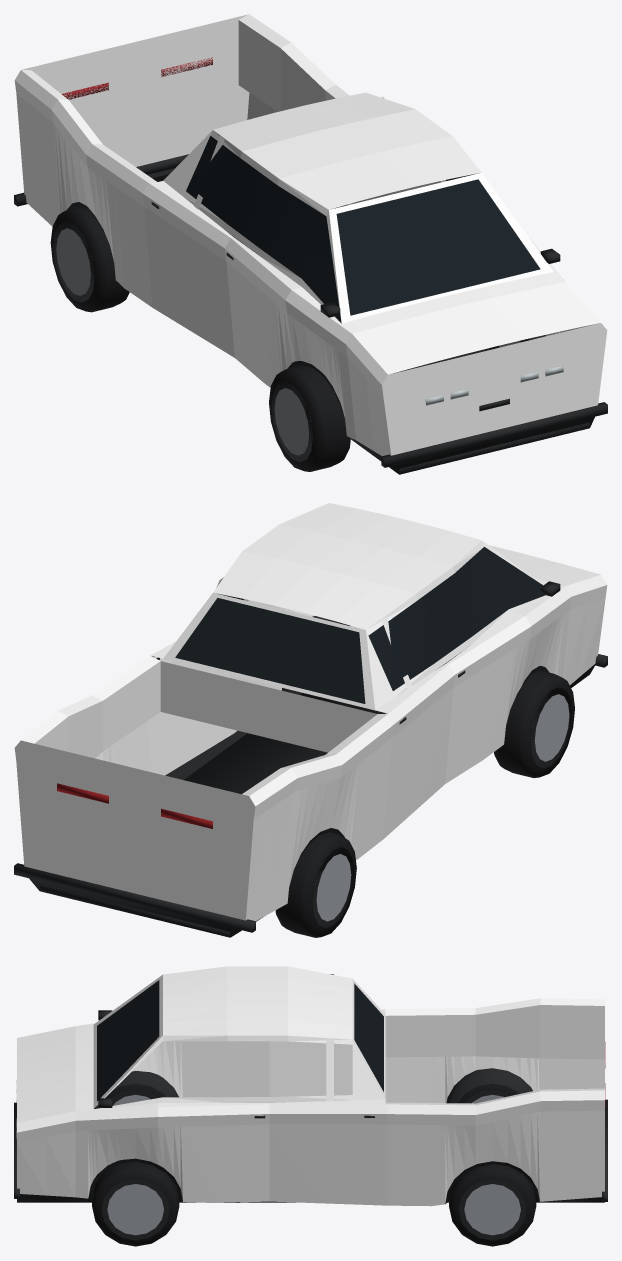
Rendered from hayase_muralha_2.glb.
3 views of the same model, one above another, from view 1: azimuth 30°, elevation 25°; view 2: azimuth 150°, elevation 25°; view 3: azimuth 270°, elevation 25° (orthographic). The views are drawn at different scales.
Visible parts, largest first — view 1: Body_Paint, Body_Details, Mount_FrontLeft_Wheel_Details, Mount_RearLeft_Wheel_Details; view 2: Body_Paint, Body_Details, Mount_FrontLeft_Wheel_Details, Mount_RearLeft_Wheel_Details; view 3: Body_Paint, Body_Details, Mount_FrontRight_Wheel_Details, Mount_RearRight_Wheel_Details, Mount_FrontLeft_Wheel_Details, Mount_RearLeft_Wheel_Details.
Part boxes in pixels (box(x1,y1,x2,y2)): Body_Paint: box(14, 14, 607, 456); Body_Details: box(14, 57, 607, 474); Mount_FrontLeft_Wheel_Details: box(269, 365, 350, 471); Mount_RearLeft_Wheel_Details: box(50, 206, 129, 312); Body_Paint: box(14, 503, 607, 921); Body_Details: box(14, 547, 607, 937); Mount_FrontLeft_Wheel_Details: box(494, 670, 574, 777); Mount_RearLeft_Wheel_Details: box(275, 832, 356, 937); Body_Paint: box(17, 966, 604, 1206); Body_Details: box(14, 980, 607, 1203); Mount_FrontRight_Wheel_Details: box(92, 1161, 179, 1246); Mount_RearRight_Wheel_Details: box(449, 1164, 536, 1246); Mount_FrontLeft_Wheel_Details: box(98, 1083, 165, 1108); Mount_RearLeft_Wheel_Details: box(458, 1083, 519, 1103).
Bounding box in the file's own units: 2.31 × 2.05 × 5.57.
2 materials, 1 textured.
